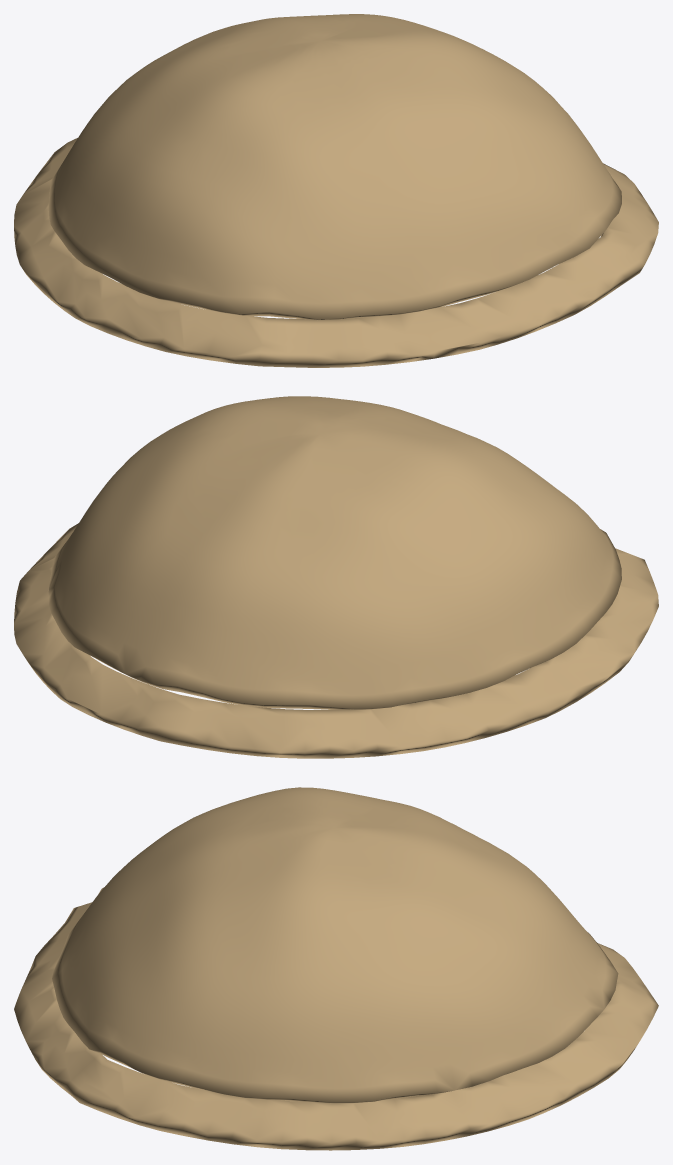
The model's file is 2HT-feminino.glb.
The picture shows the model from 3 angles, top to bottom: view 1: azimuth 30°, elevation 25°; view 2: azimuth 150°, elevation 25°; view 3: azimuth 270°, elevation 25°; orthographic projection.
Parts seen in each view (by area): view 1: crown, shaped-brim; view 2: crown, shaped-brim; view 3: crown, shaped-brim.
Boxes of the visible parts, bbox=[...] form: crown: bbox=[48, 14, 621, 320]; shaped-brim: bbox=[14, 138, 658, 367]; crown: bbox=[48, 396, 621, 709]; shaped-brim: bbox=[14, 523, 658, 758]; crown: bbox=[52, 787, 618, 1103]; shaped-brim: bbox=[14, 902, 658, 1150].
Bounding box in the file's own units: 0.072 × 0.0247 × 0.0731.
